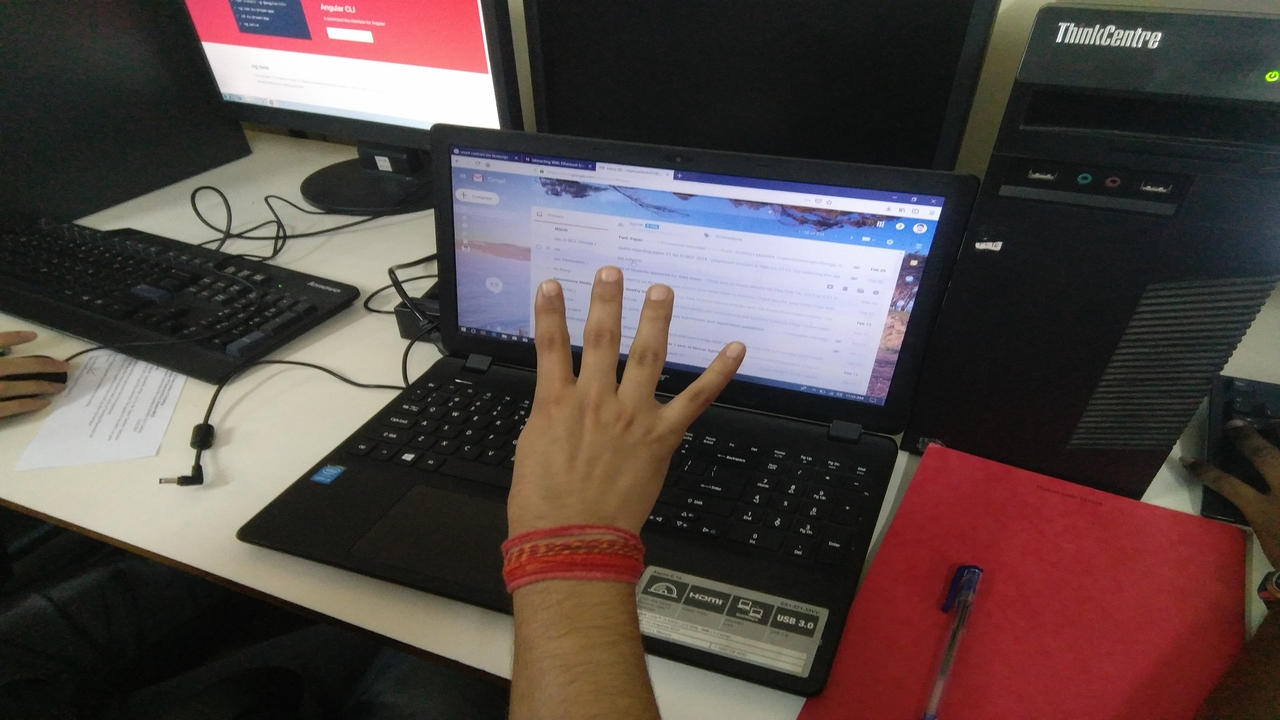fingertip: (702, 334, 752, 372), (584, 258, 630, 296), (634, 272, 680, 310), (526, 274, 568, 310)
